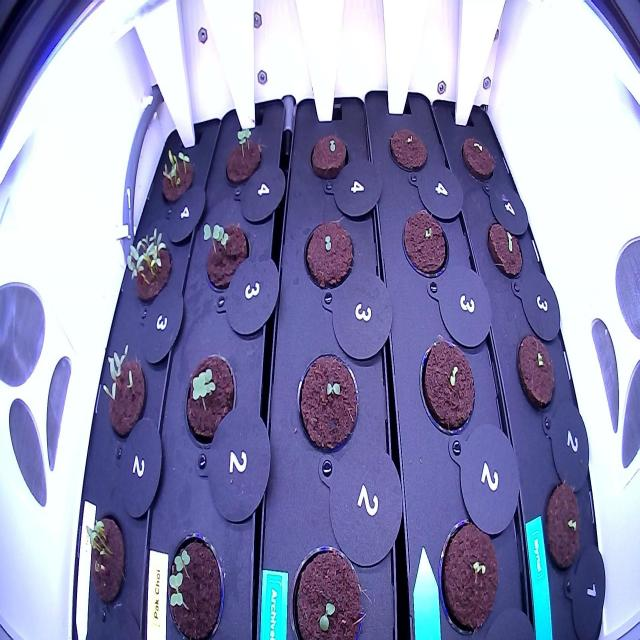germination: (432, 508, 507, 636), (289, 345, 364, 463), (286, 536, 366, 640), (154, 529, 228, 639), (416, 328, 480, 446), (178, 345, 244, 447), (92, 336, 152, 444), (118, 215, 176, 316), (78, 507, 131, 616), (537, 465, 587, 580), (196, 208, 253, 300), (299, 215, 361, 293), (512, 326, 559, 423), (398, 204, 452, 284), (216, 119, 266, 199), (482, 213, 526, 287), (154, 141, 198, 212), (386, 122, 434, 180), (305, 127, 353, 185), (457, 124, 498, 188)
